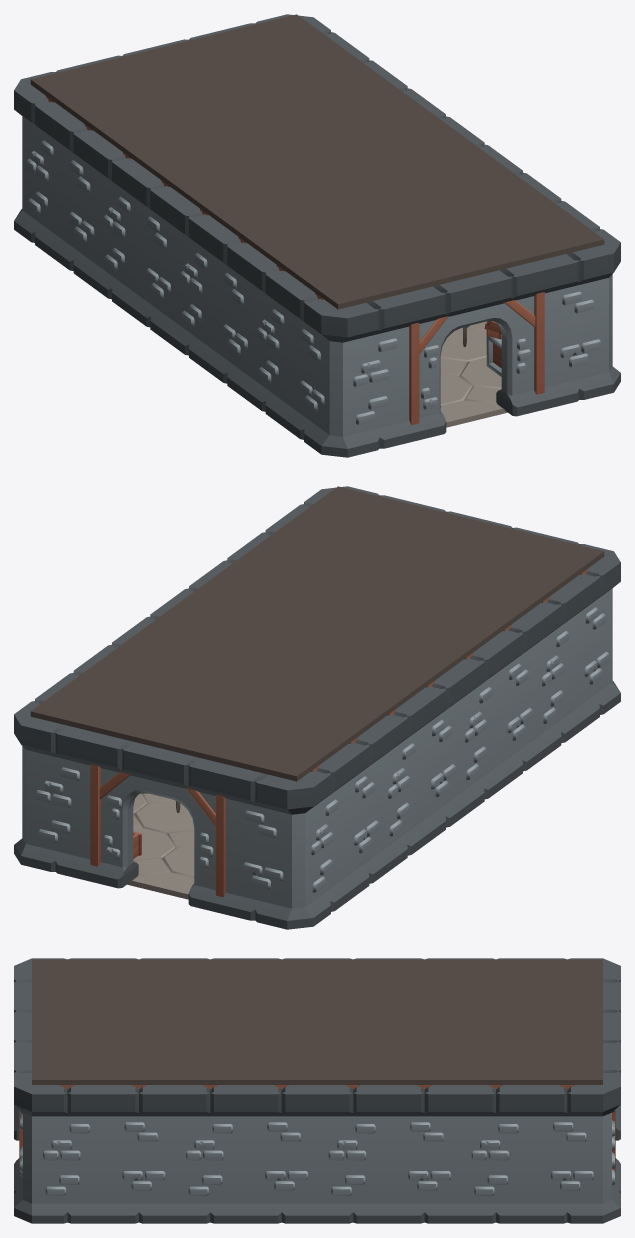
Rendered from coridor0.glb.
The picture shows the model from 3 angles, top to bottom: view 1: azimuth 30°, elevation 25°; view 2: azimuth 150°, elevation 25°; view 3: azimuth 270°, elevation 25°; orthographic projection. The views are drawn at different scales.
Parts seen in each view (by area): view 1: ceiling_tile, wall_corner.002, wall_doorway_scaffold.001, wall, wall_shelves, wall.001, wall_corner.003, wall_corner.001, floor_tile_large.001, box_small_decorated, wall_shelves.001, wall.003 (+2 smaller); view 2: ceiling_tile, wall_corner.001, wall_doorway_scaffold, wall_shelves, wall, wall.001, wall_corner.004, wall_corner.002, floor_tile_large.007, floor_tile_large.005, wall.003, wall_shelves.001 (+2 smaller); view 3: ceiling_tile, wall.004, wall.003, wall_shelves.001, wall_corner.004, wall_corner.003, wall_doorway_scaffold.001, wall_doorway_scaffold, wall_corner.001, wall_corner.002.
Boxes of the visible parts, x1,y1,x2,y2 form: ceiling_tile: [30, 14, 604, 309]; wall_corner.002: [283, 283, 414, 457]; wall_doorway_scaffold.001: [403, 261, 547, 441]; wall: [52, 114, 147, 313]; wall_shelves: [206, 226, 300, 426]; wall.001: [129, 170, 224, 369]; wall_corner.003: [536, 214, 620, 408]; wall_corner.001: [14, 63, 89, 257]; floor_tile_large.001: [440, 337, 507, 421]; box_small_decorated: [484, 321, 501, 376]; wall_shelves.001: [343, 45, 428, 103]; wall.003: [496, 158, 582, 216]; ceiling_tile: [30, 486, 604, 781]; wall_corner.001: [220, 755, 351, 929]; wall_doorway_scaffold: [87, 733, 231, 913]; wall_shelves: [487, 586, 582, 785]; wall: [334, 698, 428, 898]; wall.001: [410, 642, 505, 841]; wall_corner.004: [14, 686, 98, 880]; wall_corner.002: [545, 535, 620, 729]; floor_tile_large.007: [127, 806, 194, 893]; floor_tile_large.005: [133, 793, 192, 820]; wall.003: [206, 517, 291, 575]; wall_shelves.001: [52, 630, 138, 688]; ceiling_tile: [32, 959, 602, 1089]; wall.004: [246, 1085, 388, 1223]; wall.003: [103, 1085, 245, 1223]; wall_shelves.001: [389, 1085, 531, 1223]; wall_corner.004: [531, 1056, 620, 1223]; wall_corner.003: [14, 1056, 103, 1223]; wall_doorway_scaffold.001: [14, 996, 31, 1177]; wall_doorway_scaffold: [603, 996, 620, 1177]; wall_corner.001: [531, 958, 620, 1116]; wall_corner.002: [14, 958, 103, 1116].
Size of the model in its own units: 9 by 4.3 by 17.
Materials: 15 (15 with a texture image).
